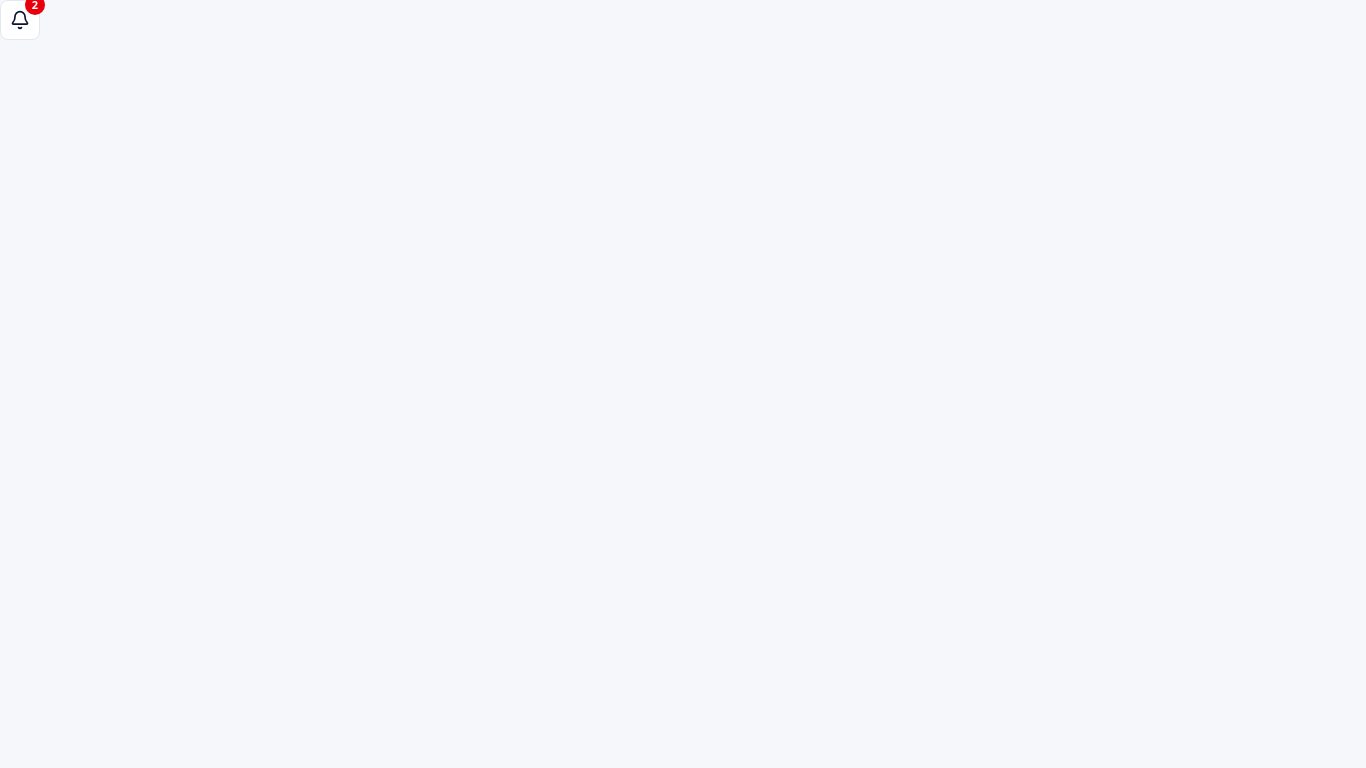
Test case: NotificationBell › snoozes one item from the bell
Click the button named "Notifications, 2". click: (20, 20)
box: [0,0,40,40]
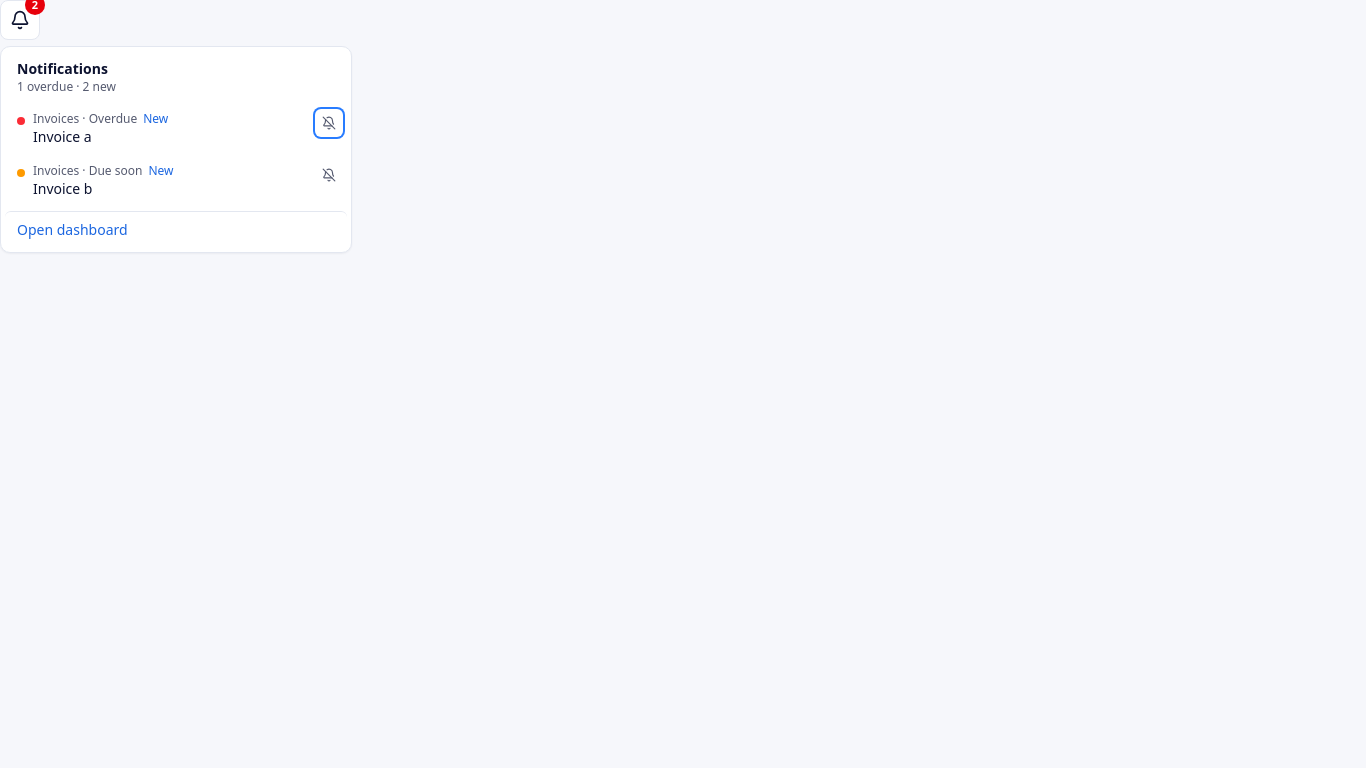
Click the button named "Snooze until tomorrow: Invoice a". click: (329, 123)
box: [315,109,343,137]
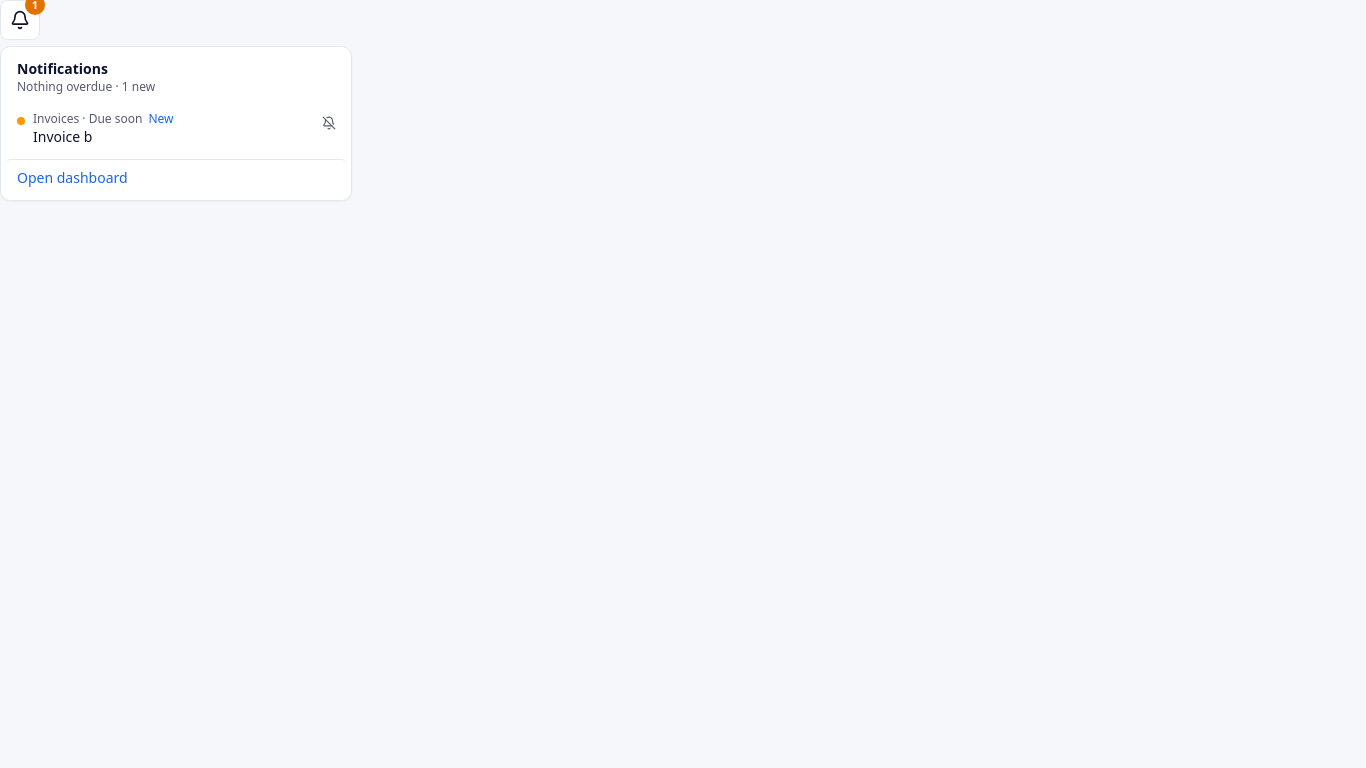
Now the link "Invoice b" is shown, box [17,110,174,146]
Now the link "Invoice a" is gone
